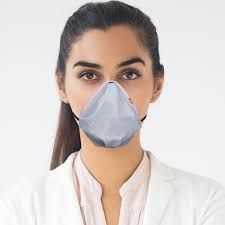with-mask: (57, 19, 166, 152)
